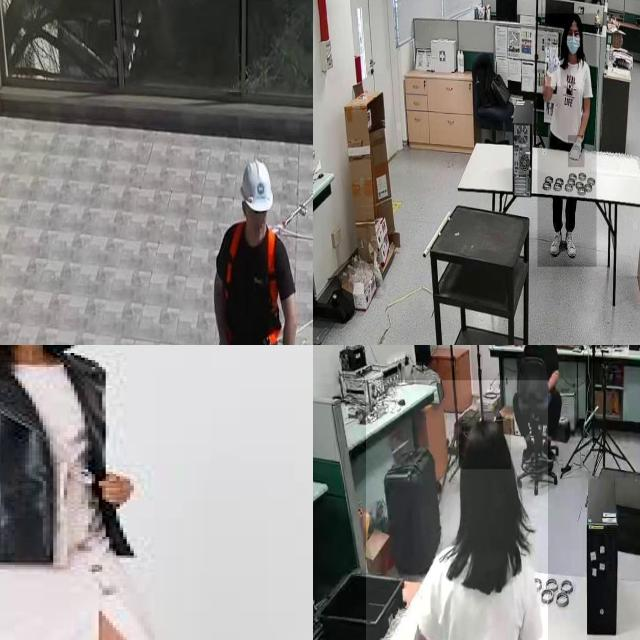Harness: (279, 191, 313, 228)
face_mask: (565, 26, 585, 60)
hand_glove: (545, 48, 561, 86), (568, 135, 585, 168)
head_nohelmet: (459, 417, 511, 470), (564, 12, 582, 26)
person: (365, 380, 548, 640), (537, 14, 597, 268), (518, 345, 565, 445)
shoes: (520, 435, 536, 464), (548, 229, 564, 256), (565, 229, 579, 259), (540, 437, 554, 467)
